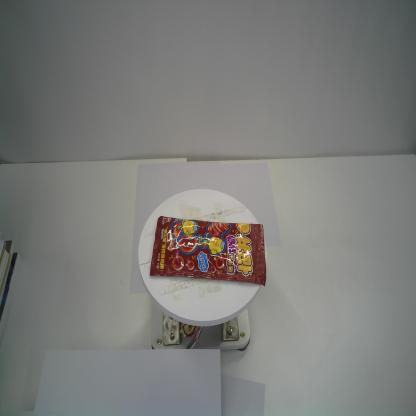Candy: (148, 214, 268, 288)
